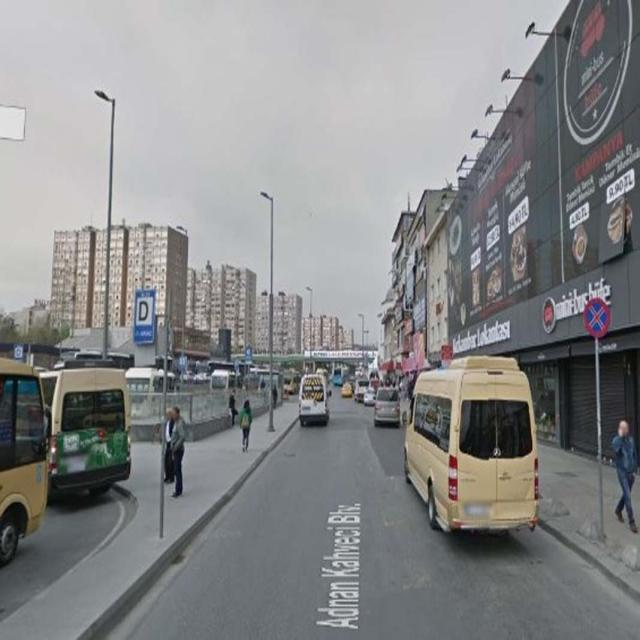durak: (134, 291, 154, 343)
